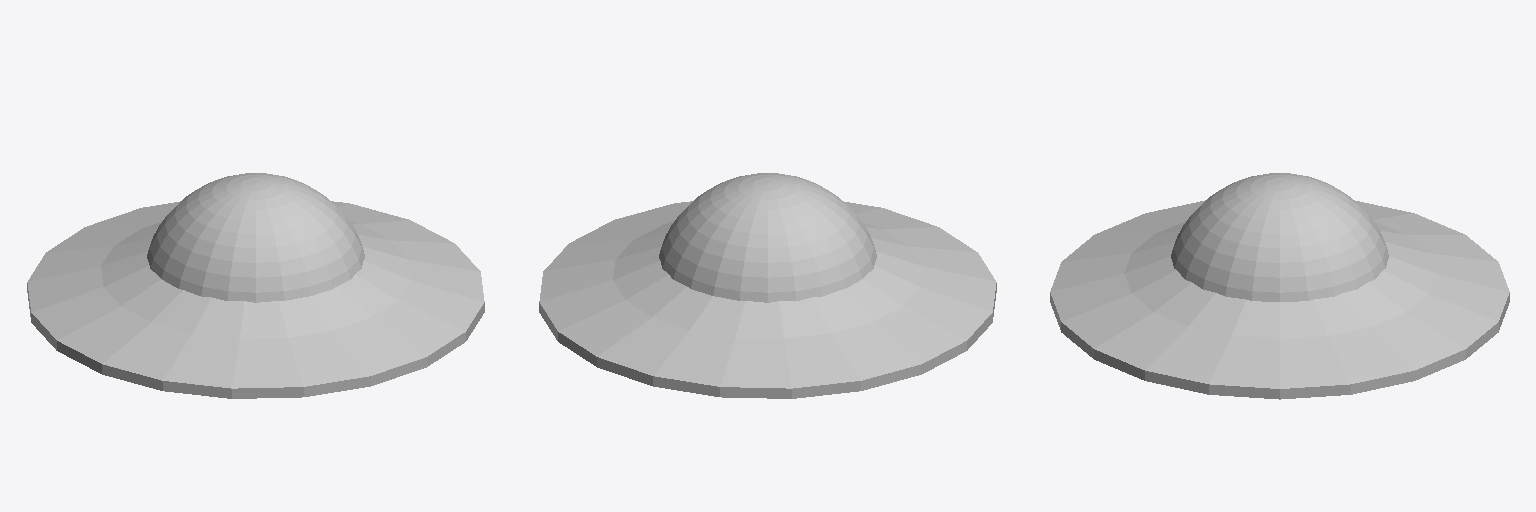
The model's file is UFO.obj.
The picture shows the model from 3 angles: view 1: azimuth 30°, elevation 25°; view 2: azimuth 150°, elevation 25°; view 3: azimuth 270°, elevation 25°; orthographic projection.
Parts seen in each view (by area): view 1: pCylinder3; view 2: pCylinder3; view 3: pCylinder3.
Part boxes in pixels (x1,y1,x2,y2): pCylinder3: (27,173,484,398); pCylinder3: (539,173,996,398); pCylinder3: (1050,173,1509,399).
Bounding box in the file's own units: 6 × 2.09 × 6.